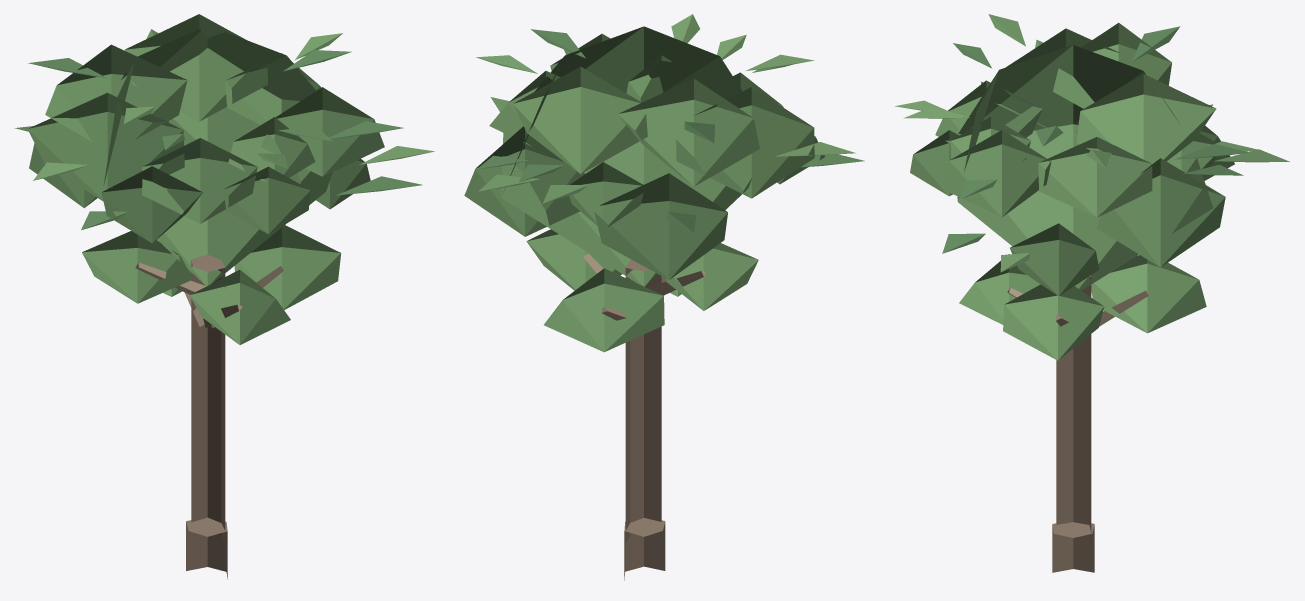
The model's file is shu.longnao@subadult__summer.glb.
3 views of the same model, side by side, from view 1: azimuth 30°, elevation 25°; view 2: azimuth 150°, elevation 25°; view 3: azimuth 270°, elevation 25° (orthographic). The views are drawn at different scales.
Parts seen in each view (by area): view 1: shu.longnao@subadult__summer; view 2: shu.longnao@subadult__summer; view 3: shu.longnao@subadult__summer.
Boxes of the visible parts, left/top/right/bottom form: shu.longnao@subadult__summer: left=14, top=14, right=434, bottom=579; shu.longnao@subadult__summer: left=464, top=14, right=864, bottom=580; shu.longnao@subadult__summer: left=895, top=14, right=1289, bottom=572.
Size of the model in its own units: 12.02 by 16.08 by 10.99.
